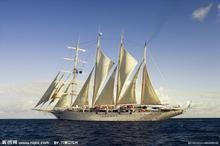fanchuan: (36, 26, 192, 121)
